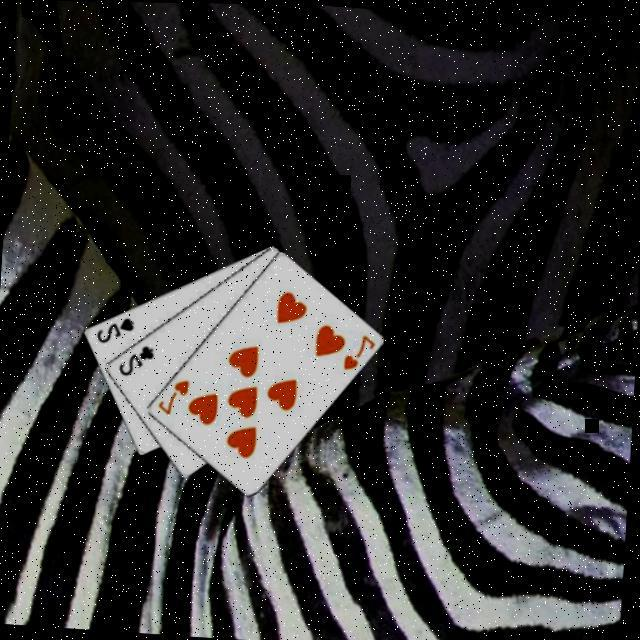2C: (113, 340, 155, 380)
2S: (91, 314, 135, 348)
7H: (338, 329, 376, 374), (152, 375, 190, 419)
